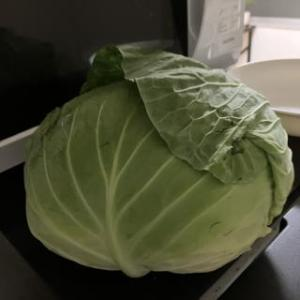cabbage: (20, 41, 295, 279)
